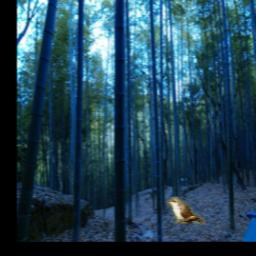Cuckoo: (167, 197, 205, 224)
